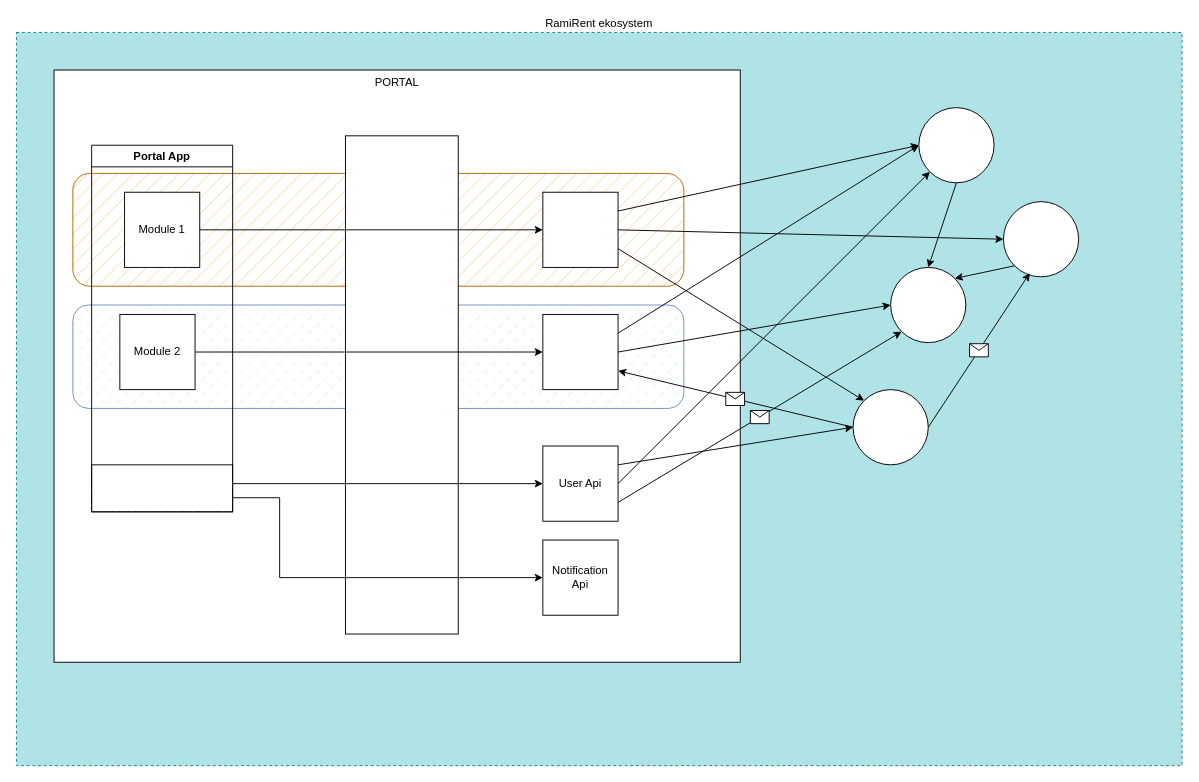
Some shapes in this 1199 by 782 pixel diagram are drawn without their labels. The shapes that lost their labels are listed below. From the top down, each one's centre as x and y in pixels, then its label:
the point at 580,229: Module 1 API
the point at 580,351: Module 2 API
the point at 401,384: Auth Reverse Proxy
the point at 162,488: Shell
